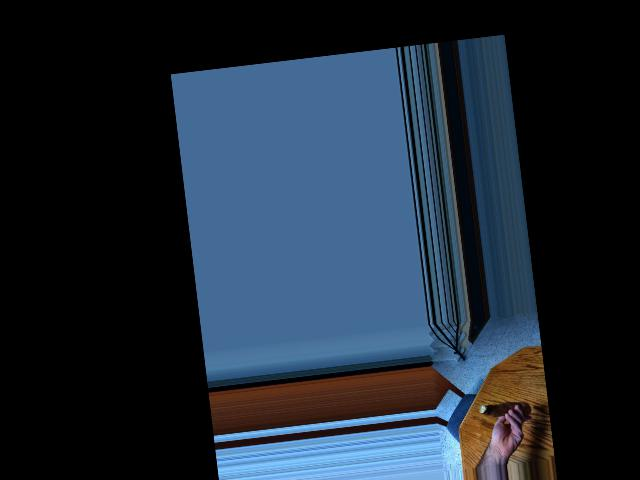sweet_potato: (477, 401, 522, 417)
